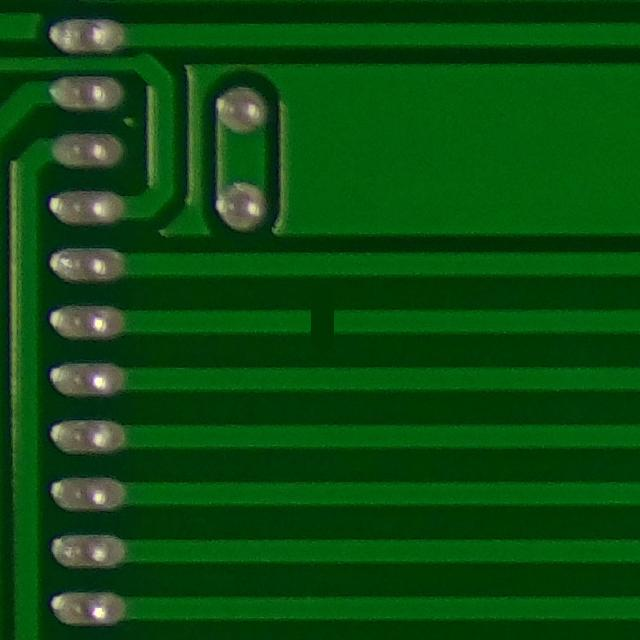open_circuit: (290, 294, 350, 346)
